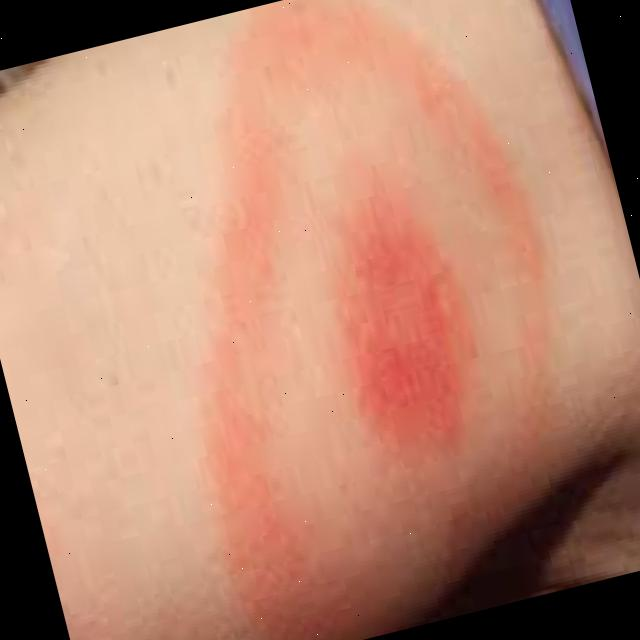kene: (288, 138, 511, 492)
